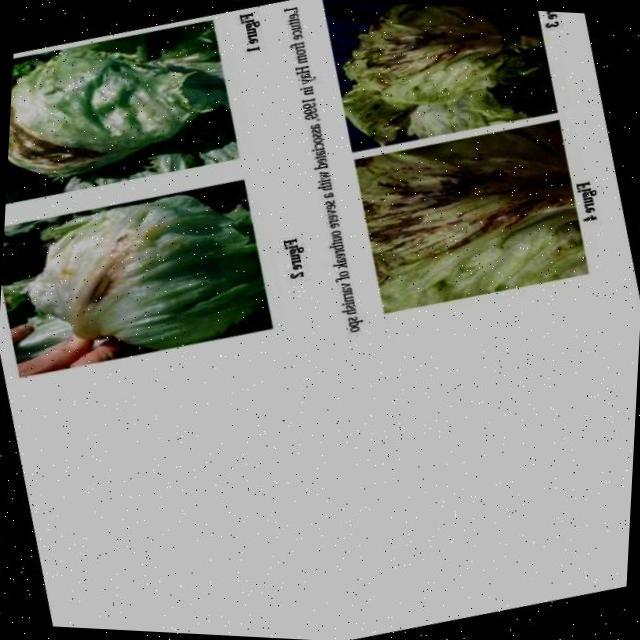Bacterial: (10, 174, 267, 361), (6, 15, 242, 216), (355, 125, 582, 298), (358, 2, 529, 113)
